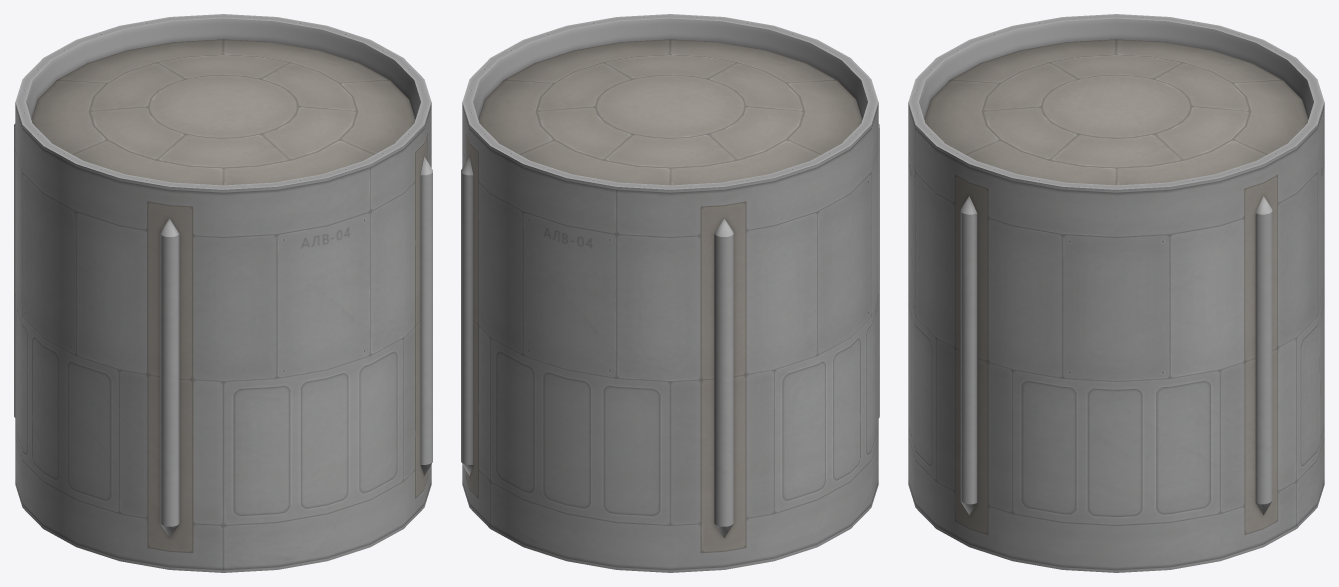
Rendered from ALV_3_LFO_1.obj.
The picture shows the model from 3 angles, left to right: view 1: azimuth 30°, elevation 25°; view 2: azimuth 150°, elevation 25°; view 3: azimuth 270°, elevation 25°; orthographic projection.
Parts seen in each view (by area): view 1: ALV_3_LFO_1; view 2: ALV_3_LFO_1; view 3: ALV_3_LFO_1.
Boxes of the visible parts, <box> form: ALV_3_LFO_1: <box>14,14,432,572</box>; ALV_3_LFO_1: <box>461,14,879,572</box>; ALV_3_LFO_1: <box>908,14,1324,572</box>.
Size of the model in its own units: 2.5 by 2.54 by 2.5.
